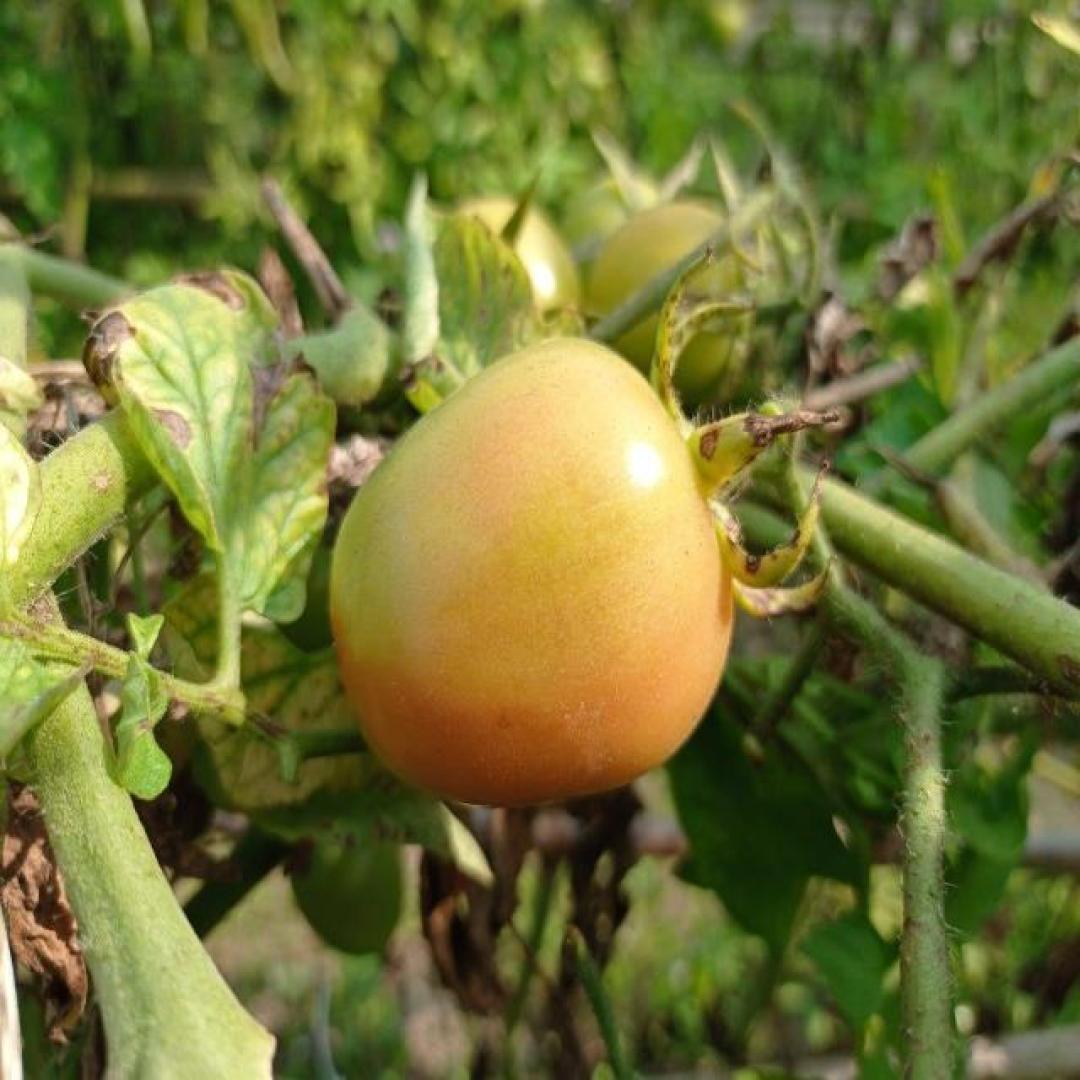setengah_matang: (324, 332, 736, 810)
